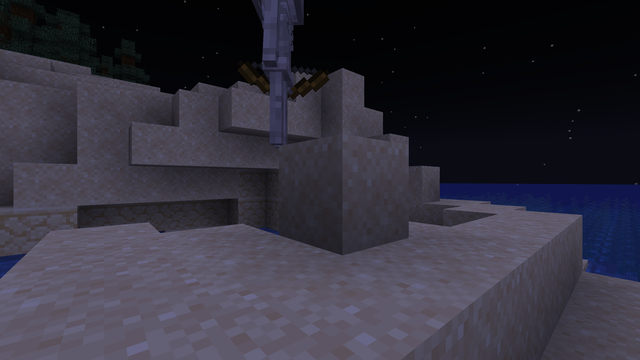squelettes: (242, 0, 316, 148)
